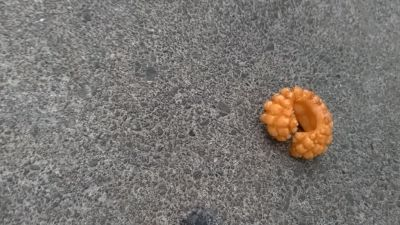eggs: (259, 84, 335, 158)
